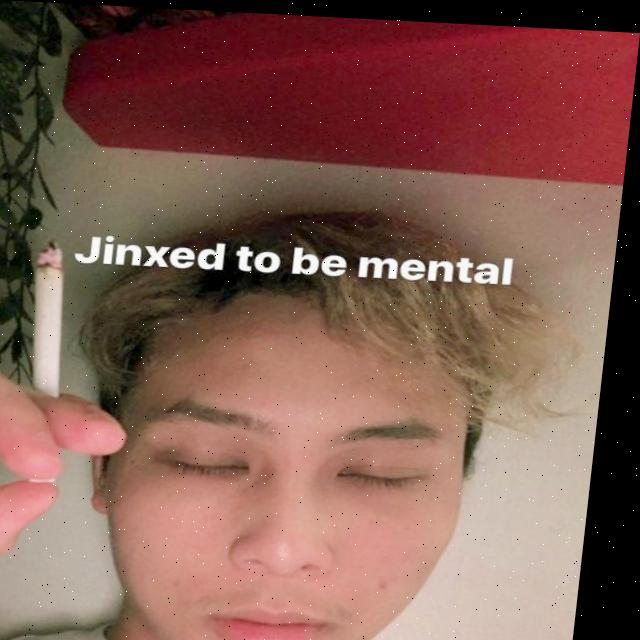cigarette: (31, 243, 81, 398)
